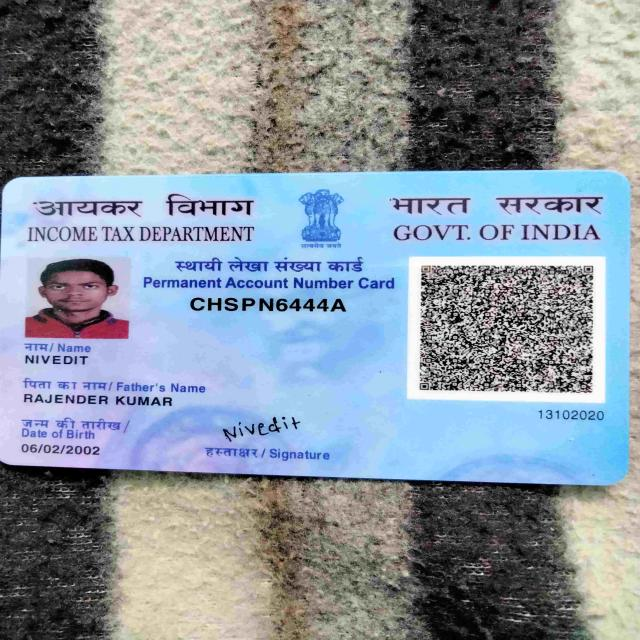pan_card: (0, 172, 622, 482)
